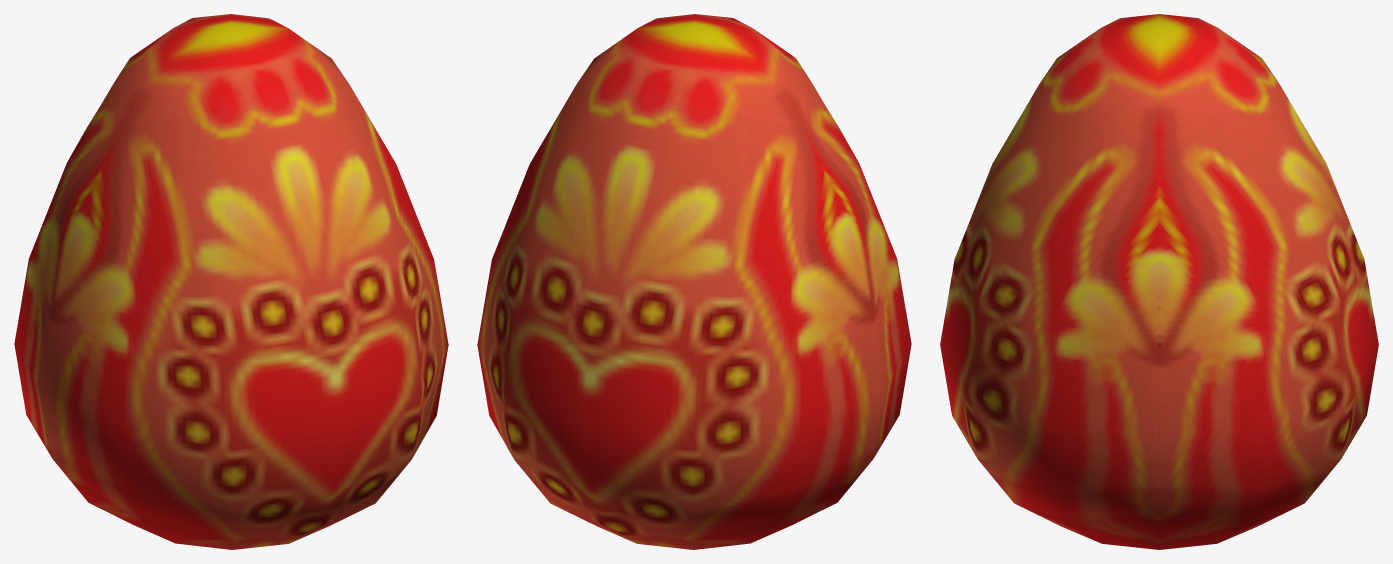
Rendered from Egg_11(HighPoly).FBX.
3 renders of one model, left to right at view 1: azimuth 30°, elevation 25°; view 2: azimuth 150°, elevation 25°; view 3: azimuth 270°, elevation 25°, orthographic.
Parts seen in each view (by area): view 1: Egg_11(HighPoly); view 2: Egg_11(HighPoly); view 3: Egg_11(HighPoly).
Part boxes in pixels (<box>): Egg_11(HighPoly): <box>14,14,448,549</box>; Egg_11(HighPoly): <box>477,14,911,549</box>; Egg_11(HighPoly): <box>940,14,1378,549</box>.
Size of the model in its own units: 0.4668 by 0.5861 by 0.4674.
